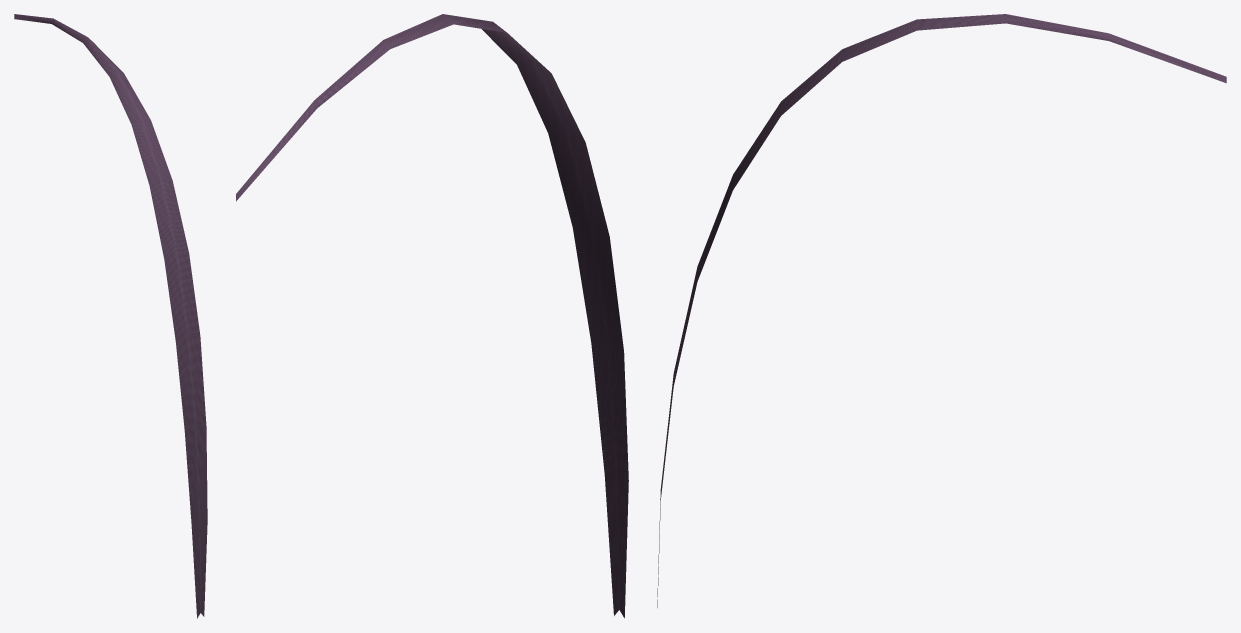
Rendered from single_blade_07.glb.
The picture shows the model from 3 angles, left to right: view 1: azimuth 30°, elevation 25°; view 2: azimuth 150°, elevation 25°; view 3: azimuth 270°, elevation 25°; orthographic projection. The views are drawn at different scales.
Visible parts, largest first — view 1: export; view 2: export; view 3: export.
Boxes of the visible parts, left/top/right/bottom form: export: left=14, top=14, right=207, bottom=618; export: left=236, top=14, right=628, bottom=618; export: left=657, top=14, right=1226, bottom=607.
Size of the model in its own units: 0.0966 by 1.01 by 0.8462.
1 material, 1 textured.
